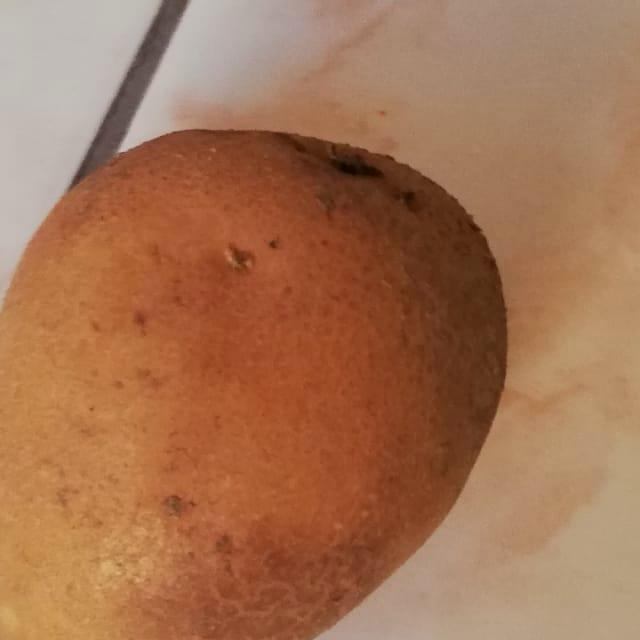potato: (0, 99, 542, 640)
